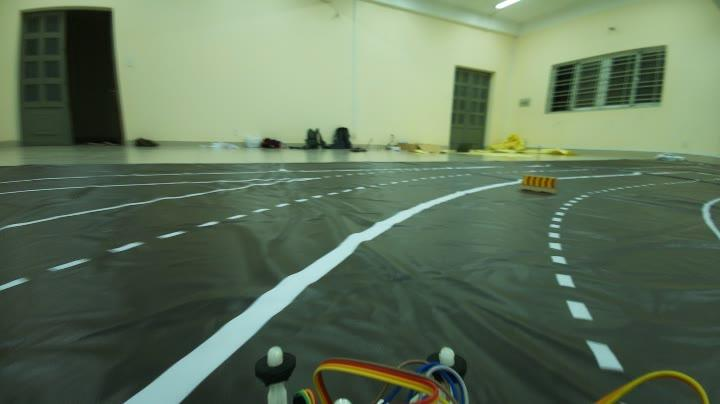roadblock: (516, 168, 566, 199)
